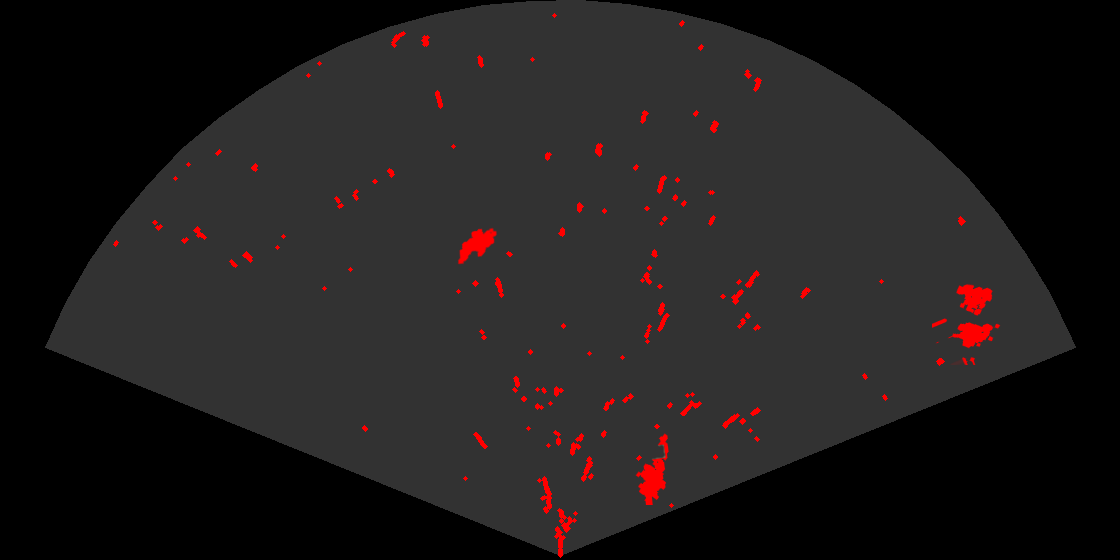AUV: (456, 226, 499, 266)
cage: (932, 282, 1002, 365)
frogman: (634, 432, 670, 505)
